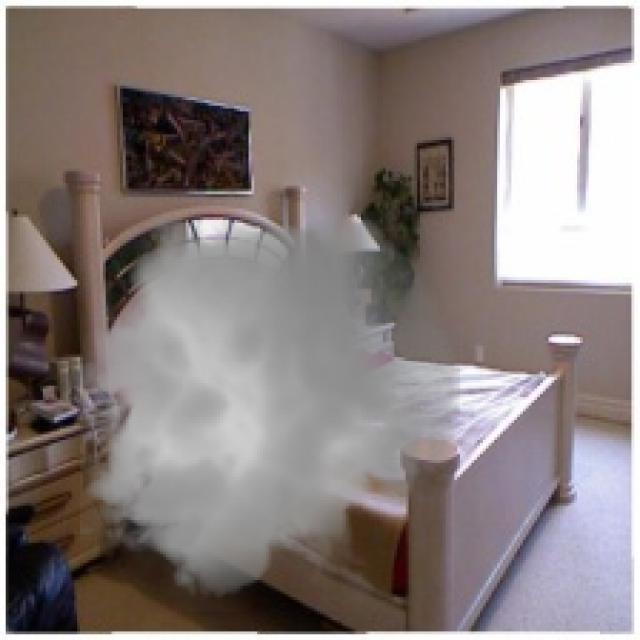Smoke: (62, 197, 474, 612)
